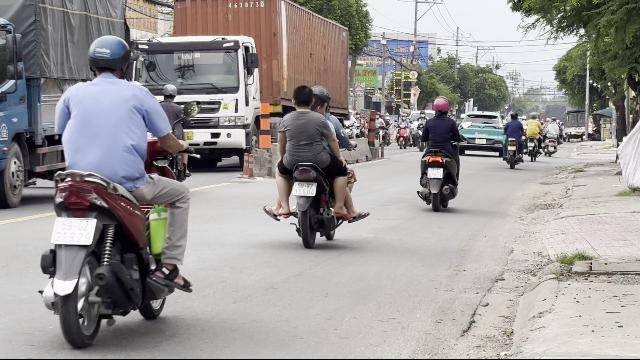helmet: (85, 34, 132, 78), (431, 96, 449, 116), (311, 85, 329, 101)
licenseplate: (52, 218, 96, 244), (292, 182, 316, 196), (427, 168, 443, 178)
motorcyclist: (34, 33, 198, 347), (265, 83, 365, 247), (415, 96, 463, 210)
nohelmet: (291, 84, 313, 108), (310, 96, 330, 114)
